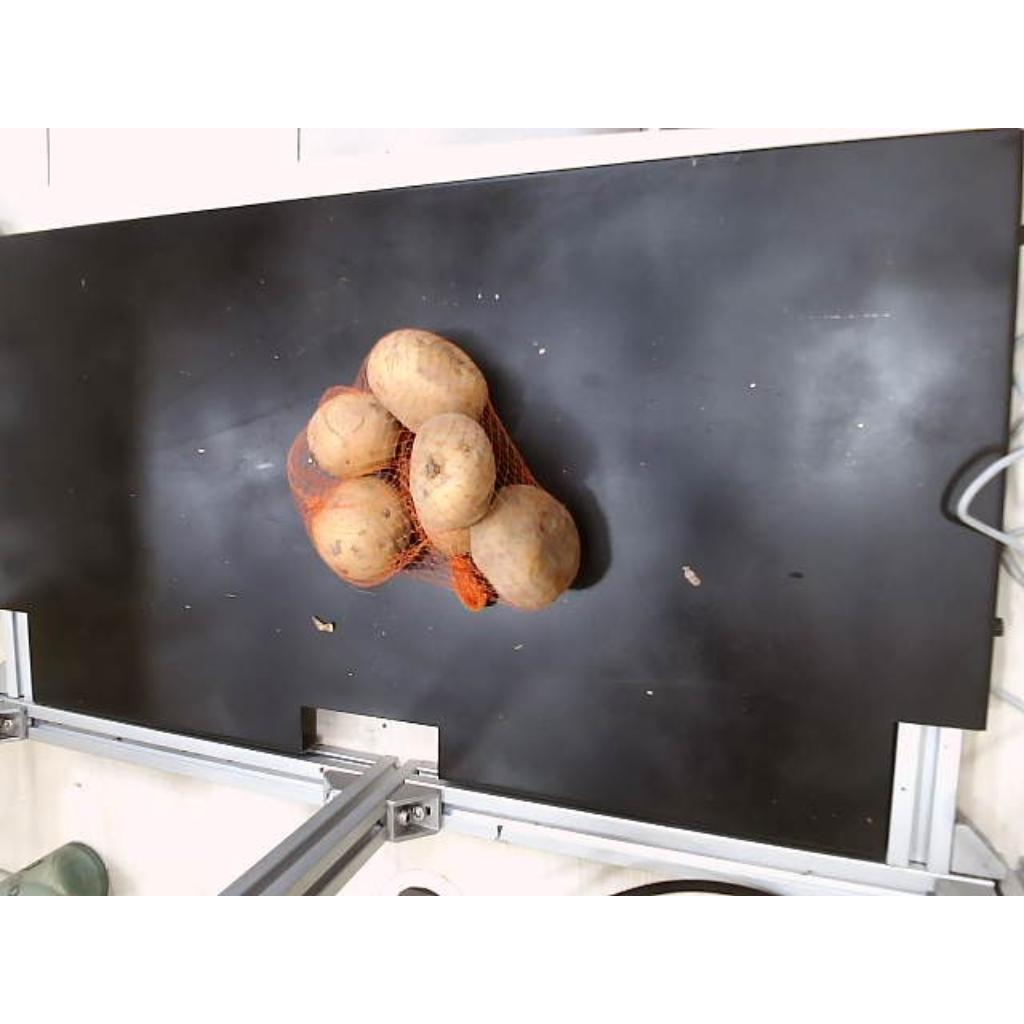potato: (470, 484, 580, 610), (366, 328, 488, 431), (310, 476, 412, 587), (410, 412, 494, 535), (308, 388, 400, 477), (428, 528, 470, 556)
